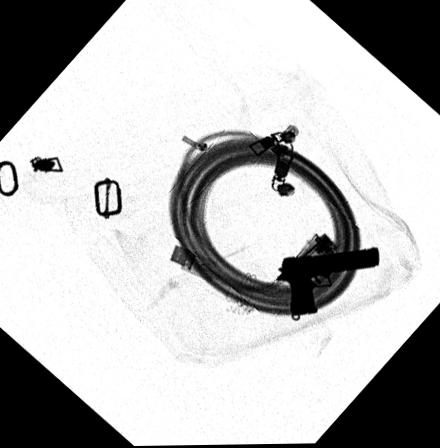Gun: (274, 245, 379, 319)
